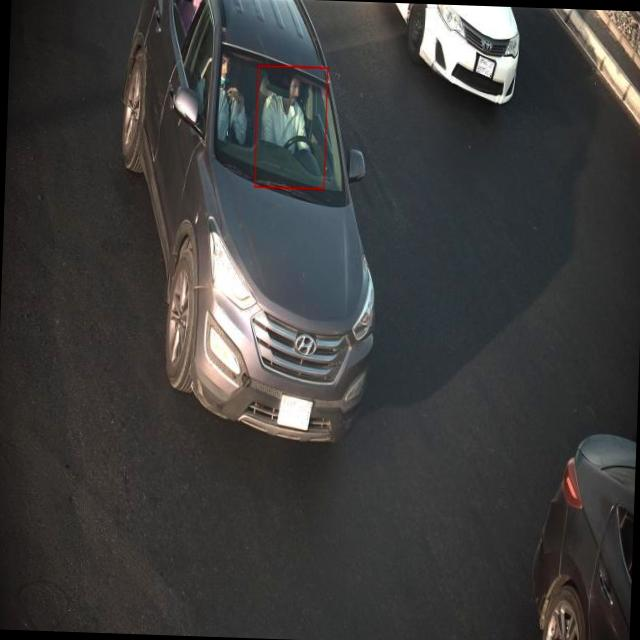person_without_seatbelt: (254, 69, 328, 160)
